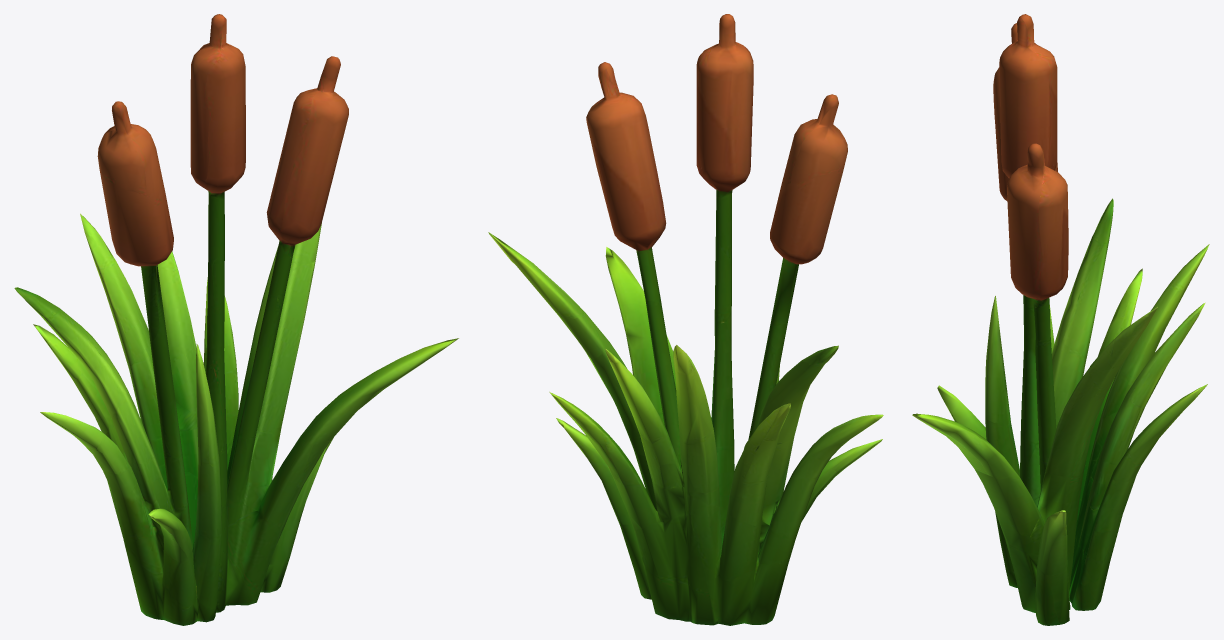
The model's file is quenouilles.glb.
3 views of the same model, side by side, from view 1: azimuth 30°, elevation 25°; view 2: azimuth 150°, elevation 25°; view 3: azimuth 270°, elevation 25° (orthographic). The views are drawn at different scales.
Visible parts, largest first — view 1: mesh_node; view 2: mesh_node; view 3: mesh_node.
Boxes of the visible parts, <box> form: mesh_node: <box>14,14,458,625</box>; mesh_node: <box>488,14,883,625</box>; mesh_node: <box>912,14,1209,625</box>.
Size of the model in its own units: 1.17 by 1.9 by 0.8877.
Materials: 1 (1 with a texture image).
